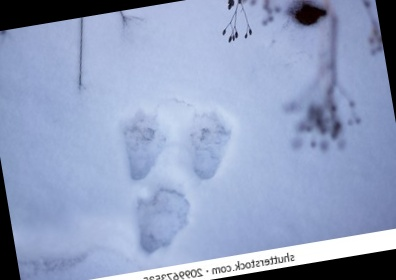rabbit: (166, 102, 255, 191)
